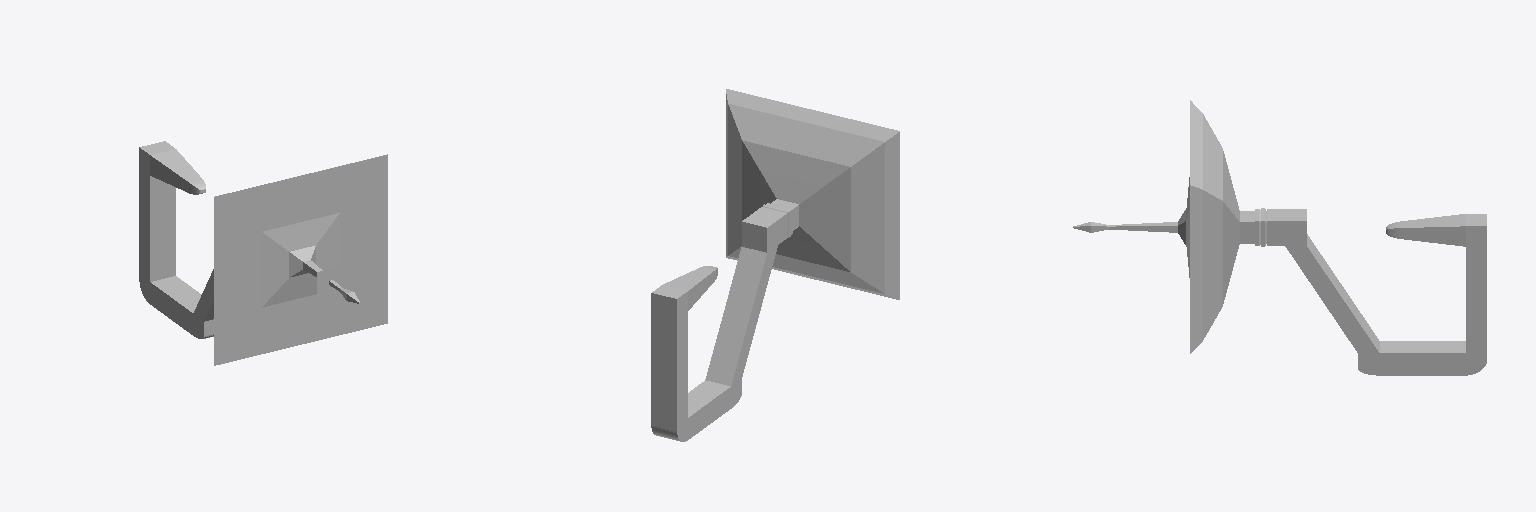
The model's file is Handheld_Radio_Antenna_Device.obj.
3 renders of one model, left to right at view 1: azimuth 30°, elevation 25°; view 2: azimuth 150°, elevation 25°; view 3: azimuth 270°, elevation 25°, orthographic.
Parts seen in each view (by area): view 1: Cube; view 2: Cube; view 3: Cube.
Boxes of the visible parts, x1,y1,x2,y2 form: Cube: [139, 141, 387, 365]; Cube: [651, 89, 899, 441]; Cube: [1073, 100, 1486, 375].
Size of the model in its own units: 2 by 2.48 by 4.11.